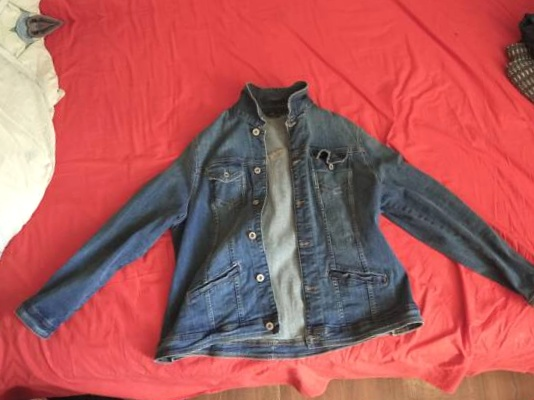Blazer: (0, 44, 534, 400), (0, 123, 20, 400)
